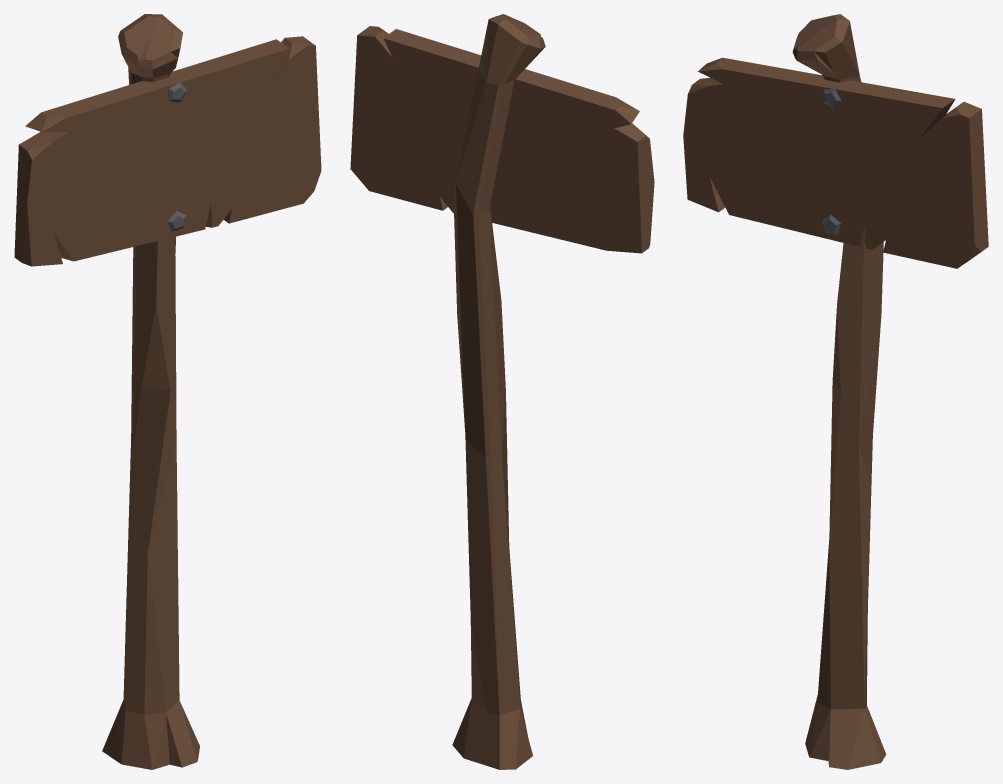
File: post1.glb
3 views of the same model, side by side, from view 1: azimuth 30°, elevation 25°; view 2: azimuth 150°, elevation 25°; view 3: azimuth 330°, elevation 25° (orthographic).
Visible parts, largest first — view 1: post1; view 2: post1; view 3: post1.
Part boxes in pixels (box(x1,y1,x2,y2)): post1: box(14, 14, 321, 769); post1: box(350, 14, 654, 769); post1: box(683, 14, 988, 769).
Bounding box in the file's own units: 0.344 × 0.8247 × 0.0913.
